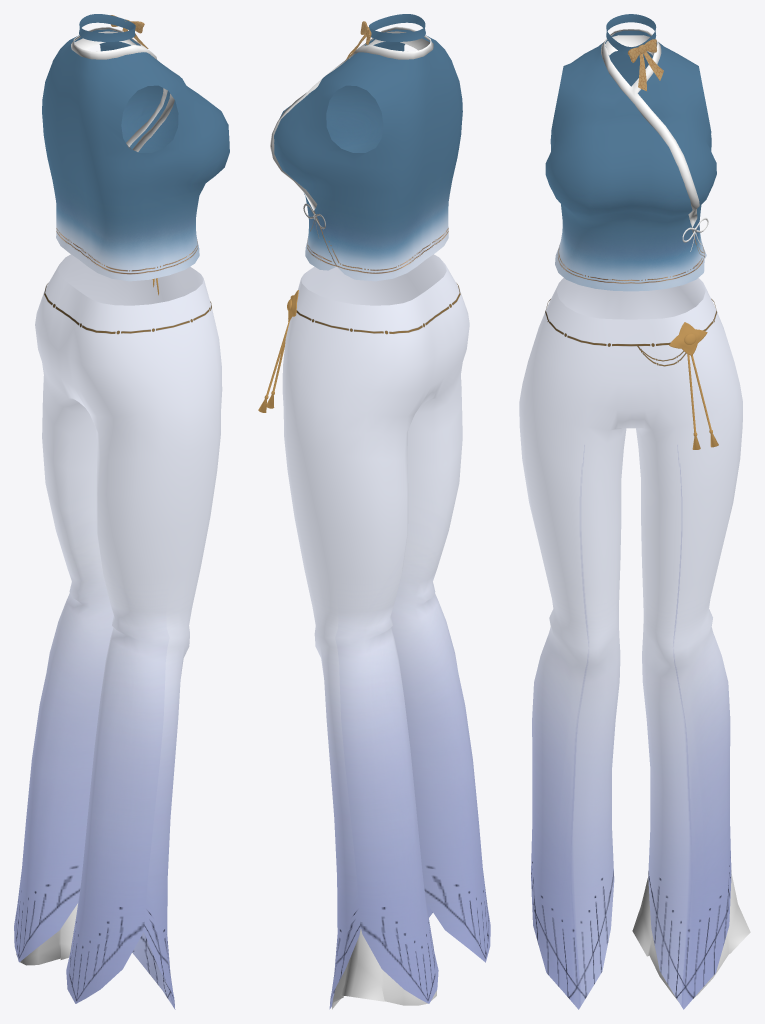
The model's file is prevfinal.glb.
3 renders of one model, left to right at view 1: azimuth 30°, elevation 25°; view 2: azimuth 150°, elevation 25°; view 3: azimuth 270°, elevation 25°, orthographic.
Parts seen in each view (by area): view 1: Cube.002, Cube, Cube.003, Circle, Cube.004; view 2: Cube.002, Cube, Cube.003, Circle; view 3: Cube.002, Cube, Cube.003, Cube.001, Circle, Plane.001, Cylinder.
Boxes of the visible parts, x1=… form: Cube.002: x1=14, y1=254, x2=222, y2=1009; Cube: x1=42, y1=26, x2=229, y2=281; Cube.003: x1=16, y1=903, x2=77, y2=965; Circle: x1=79, y1=14, x2=135, y2=41; Cube.004: x1=44, y1=283, x2=211, y2=334; Cube.002: x1=282, y1=254, x2=490, y2=1009; Cube: x1=270, y1=26, x2=462, y2=281; Cube.003: x1=332, y1=929, x2=436, y2=1009; Circle: x1=369, y1=14, x2=425, y2=41; Cube.002: x1=519, y1=278, x2=742, y2=1009; Cube: x1=545, y1=29, x2=716, y2=291; Cube.003: x1=632, y1=872, x2=750, y2=1001; Cube.001: x1=627, y1=39, x2=663, y2=91; Circle: x1=606, y1=14, x2=656, y2=54; Plane.001: x1=669, y1=322, x2=707, y2=355; Cylinder: x1=687, y1=354, x2=718, y2=449.
Bounding box in the file's own units: 0.6504 × 3.74 × 0.8134.
Materials: 11 (8 with a texture image).
